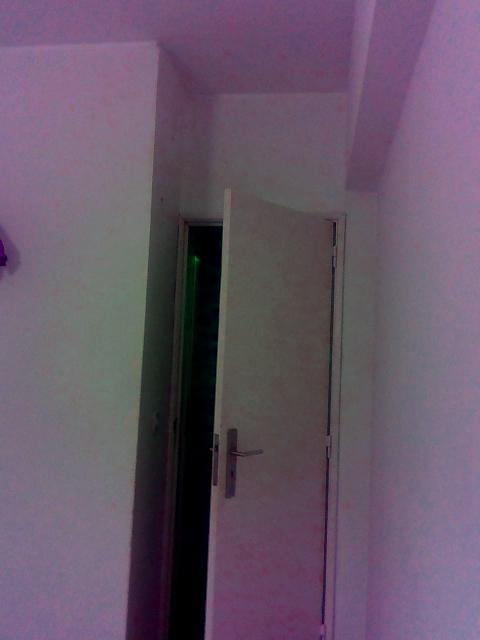semi_door: (160, 181, 343, 639)
